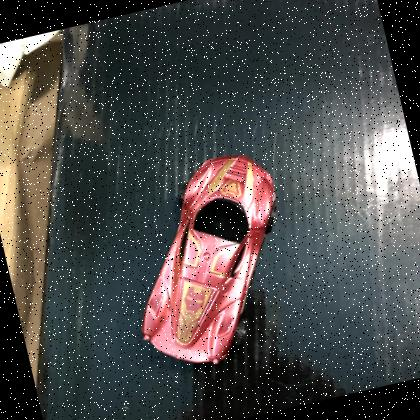Car: (105, 143, 312, 380)
